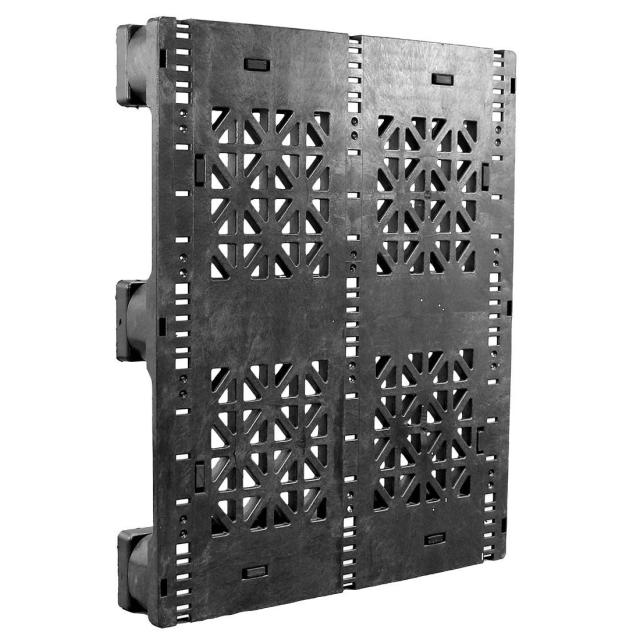non-igps: (83, 12, 525, 633)
